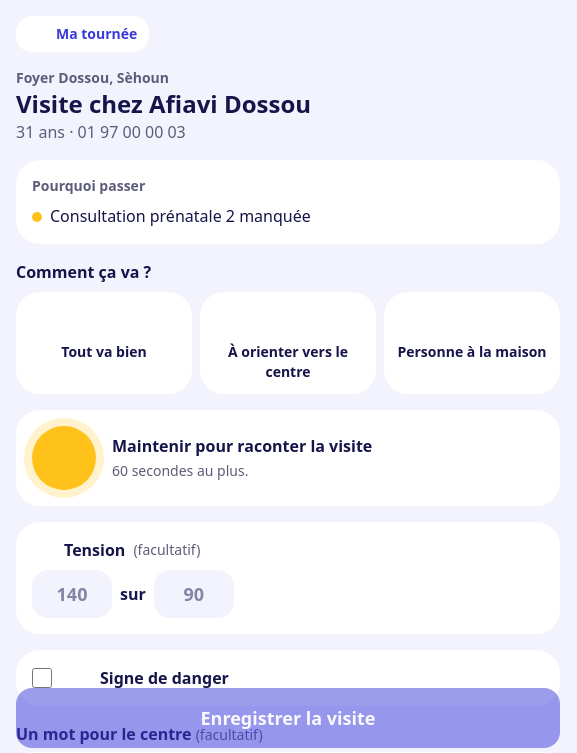
VueVisite › dit pourquoi passer, et n'enregistre qu'avec un constat
expect the list item "Consultation prénatale 2 manquée" is shown: met, box [32, 205, 311, 227]
expect the button "Enregistrer la visite" is disabled: met, box [16, 688, 560, 748]
Click the radio button labelled "Tout va bien": (104, 343) [16, 292, 192, 394]
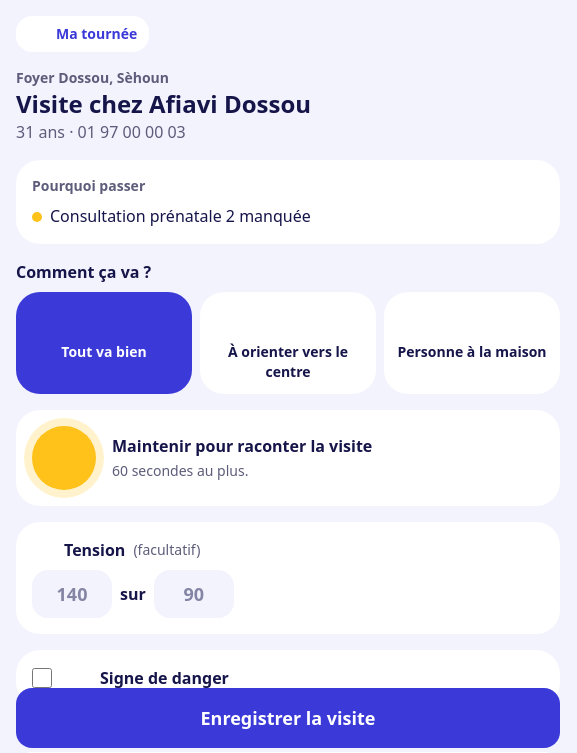
expect the button "Enregistrer la visite" is enabled: met, box [16, 688, 560, 748]
